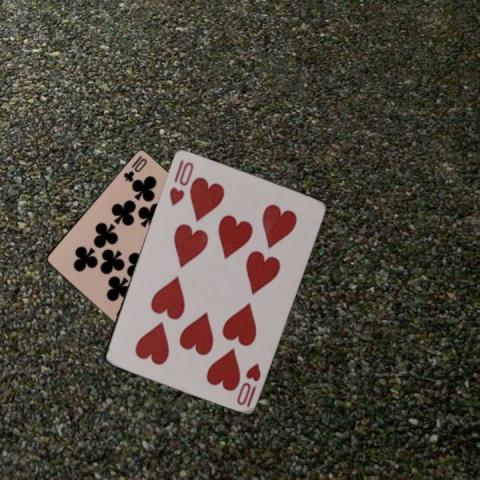10c: (120, 153, 148, 183)
10h: (166, 156, 195, 207), (233, 359, 262, 409)
